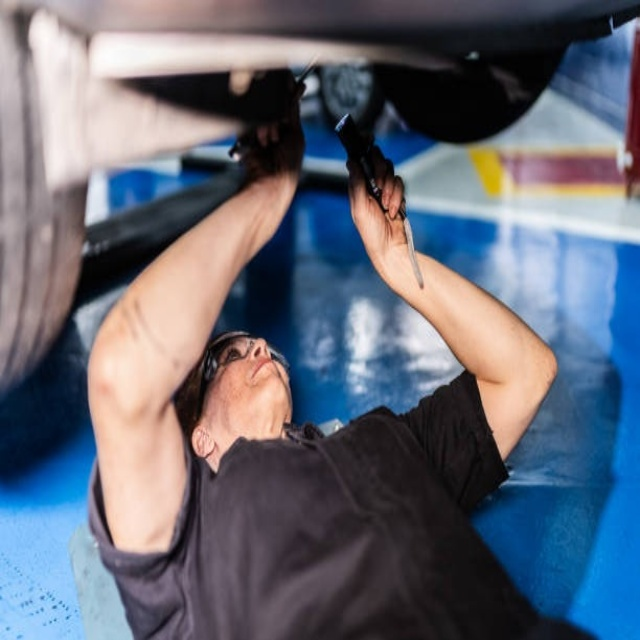Gafas: (201, 335, 296, 383)
Sin_guantes: (230, 74, 306, 184), (347, 140, 400, 222)
Sin_mascara: (247, 354, 283, 402)
